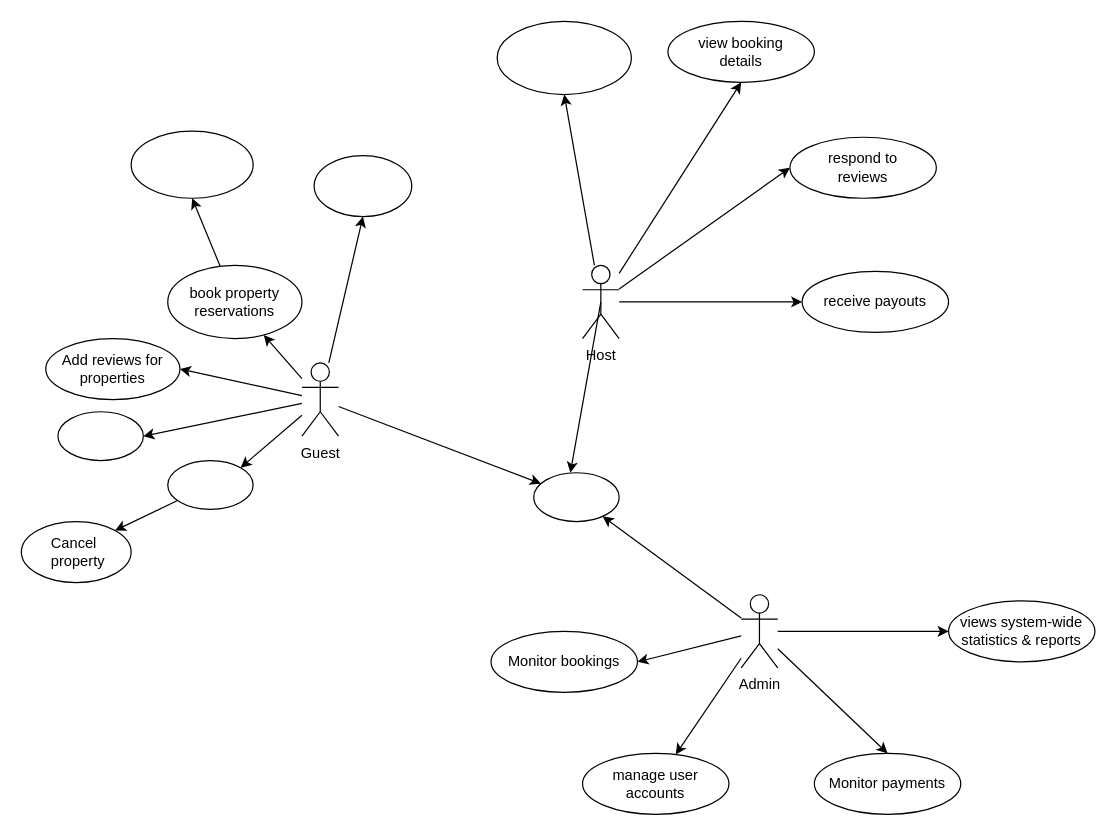
Image size: 1116x836. Some labels were removed from this diagram. Each missing label, with the centre of its shape:
add, edit, and delete property listings: [563,57]
Book property: [210,484]
cancel property reservations: [191,164]
Make payments: [100,436]
Register/ Login: [576,497]
Search /Filter properties: [362,185]
